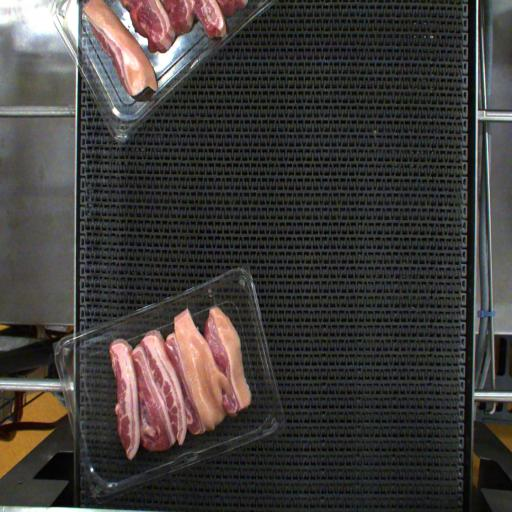twisted-meat: (200, 295, 245, 401), (181, 328, 216, 436)
